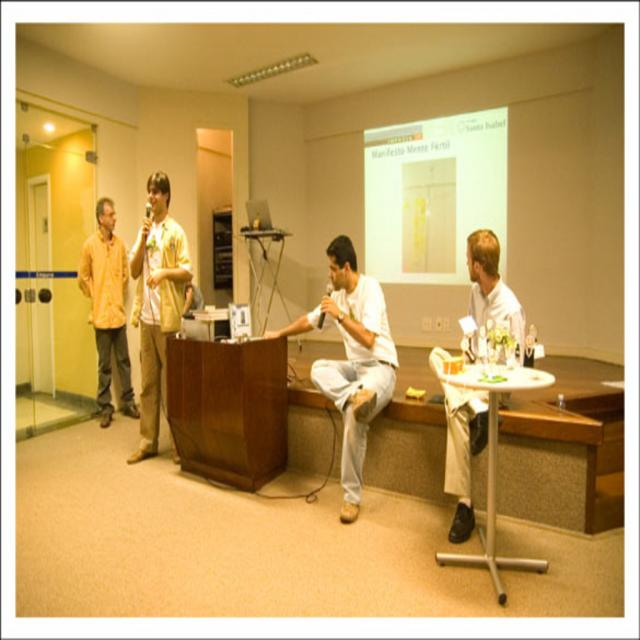desk: (167, 331, 287, 487)
person: (260, 233, 400, 520), (430, 229, 528, 546), (126, 170, 193, 464), (77, 196, 138, 430)
